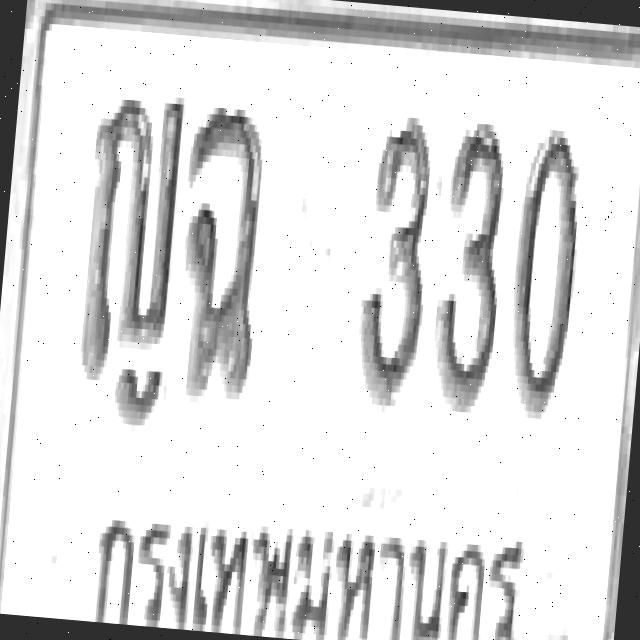0: (500, 120, 588, 420)
18ChorChing: (167, 94, 274, 403)
22YorYing: (73, 82, 187, 386)
3: (351, 108, 439, 408), (428, 114, 512, 414)
Bangkok: (84, 487, 534, 640)
